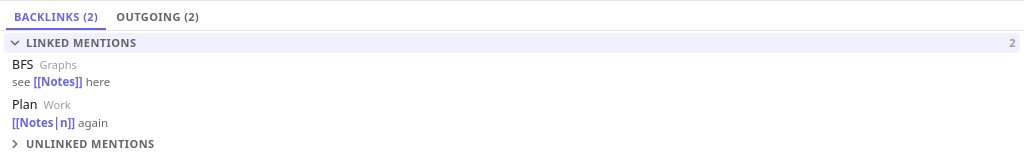
Test: LinksDock › shows backlinks with snippets and counts, and Outgoing with unresolved
Check: the tab "Backlinks (2)" is shown, box x1=6 y1=5 x2=106 y2=30
Check: the options read "Linked mentions2", "BFSGraphssee [ [Notes]] here", "PlanWork[ [Notes|n]] again", "Unlinked mentions", in this order, box x1=4 y1=33 x2=1020 y2=53; x1=12 y1=56 x2=110 y2=89; x1=12 y1=96 x2=108 y2=130; x1=8 y1=136 x2=154 y2=151
Click the tab "Outgoing (2)" at (158, 18), box x1=108 y1=5 x2=207 y2=30
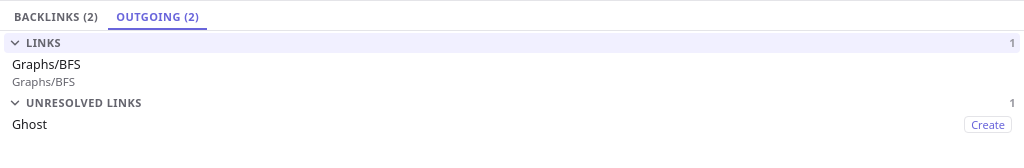
Check: the options read "Links1", "Graphs/BFSGraphs/BFS", "Unresolved links1", "GhostCreate", in this order, box x1=4 y1=33 x2=1020 y2=53; x1=12 y1=56 x2=81 y2=89; x1=4 y1=93 x2=1020 y2=113; x1=4 y1=113 x2=1020 y2=136
